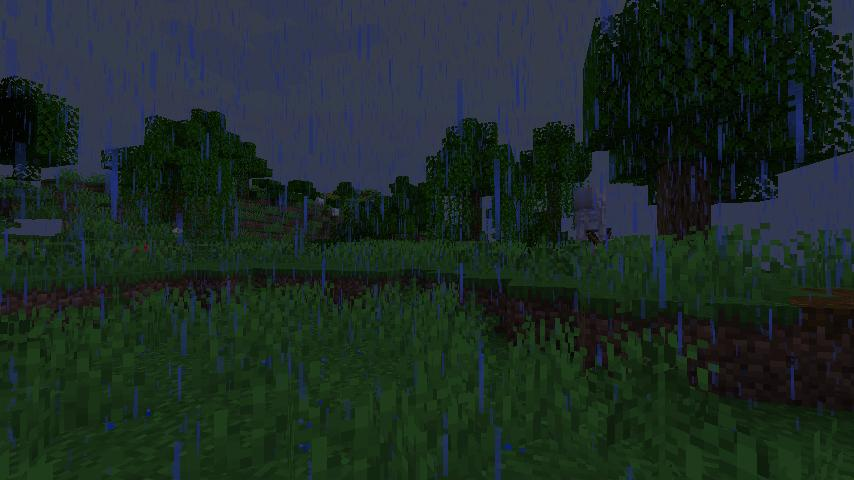skeleton: (570, 183, 613, 262)
